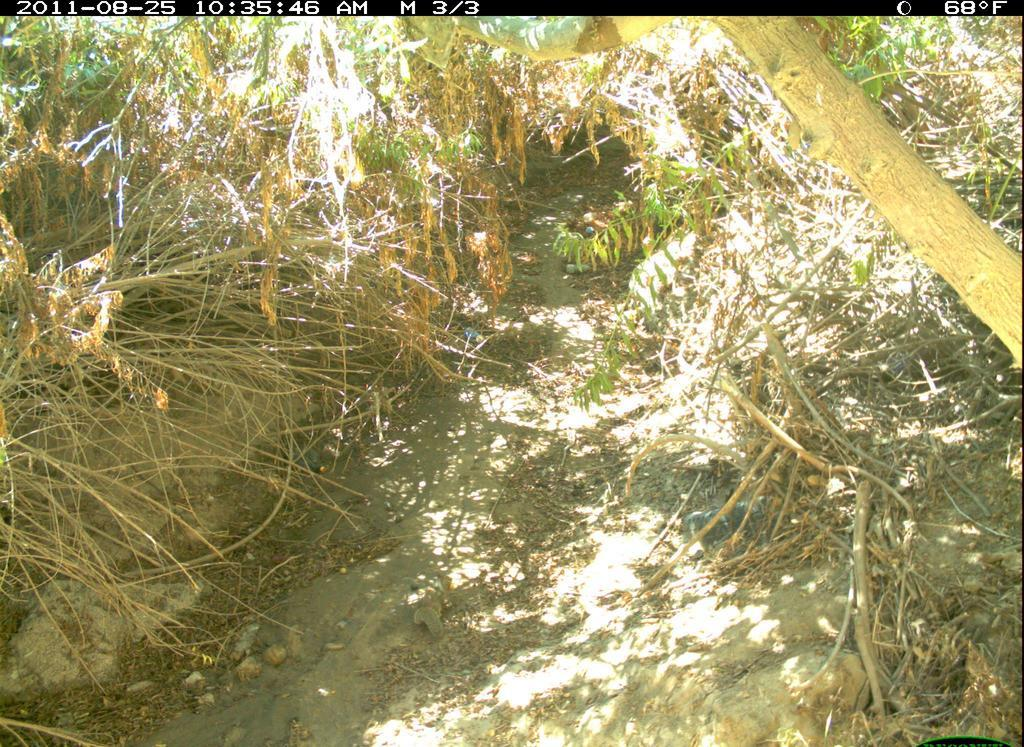squirrel: (411, 573, 455, 643)
